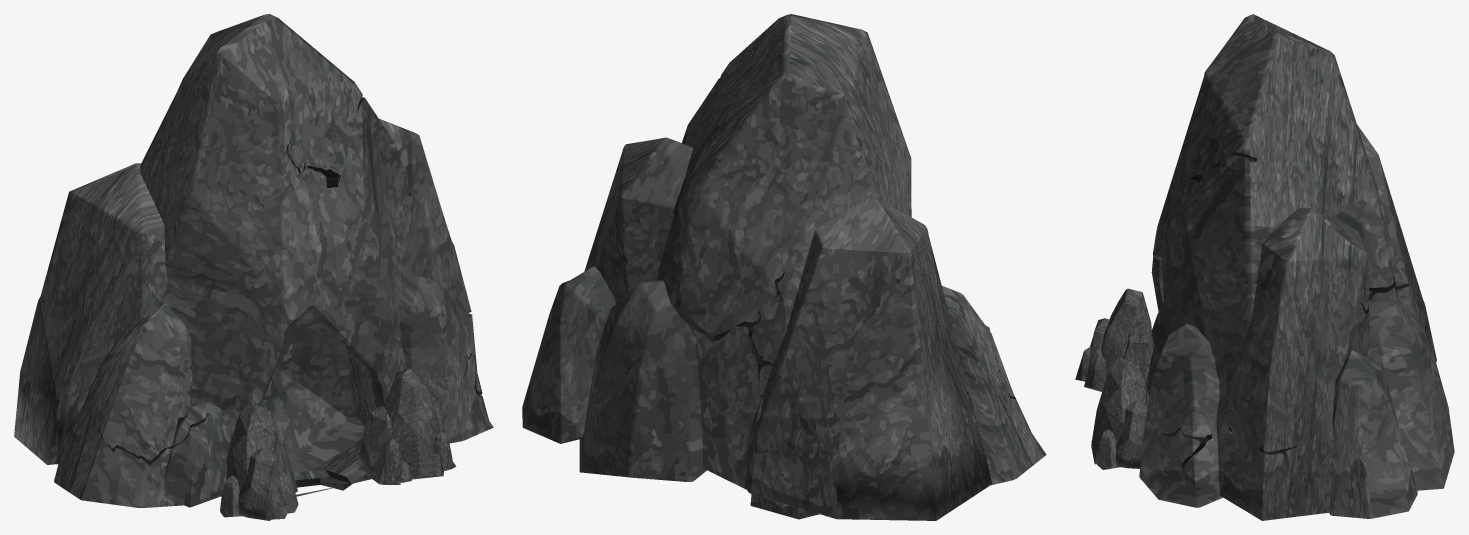
File: CaveReUV.fbx
3 renders of one model, left to right at view 1: azimuth 30°, elevation 25°; view 2: azimuth 150°, elevation 25°; view 3: azimuth 270°, elevation 25°, orthographic. The views are drawn at different scales.
Parts seen in each view (by area): view 1: polySurface19, Rocks4, Rocks; view 2: polySurface19; view 3: polySurface19, Rocks4, Rocks.
Part boxes in pixels (box(x1,y1,x2,y2)): polySurface19: box(14, 14, 493, 507); Rocks4: box(358, 368, 456, 484); Rocks: box(220, 401, 298, 520); polySurface19: box(522, 14, 1046, 520); polySurface19: box(1139, 14, 1454, 520); Rocks4: box(1091, 357, 1149, 469); Rocks: box(1075, 288, 1154, 391).
Bounding box in the file's own units: 91.58 × 95.41 × 72.25.
